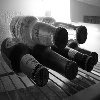beer: (1, 37, 50, 87)
